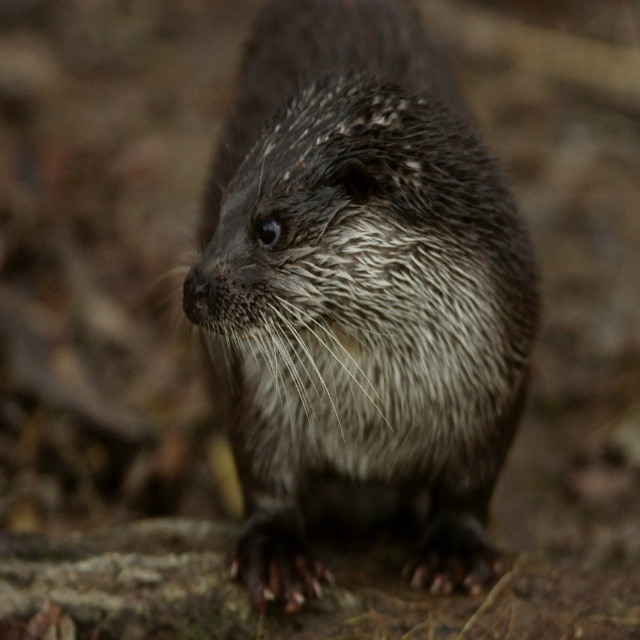Otter: (152, 0, 548, 617)
